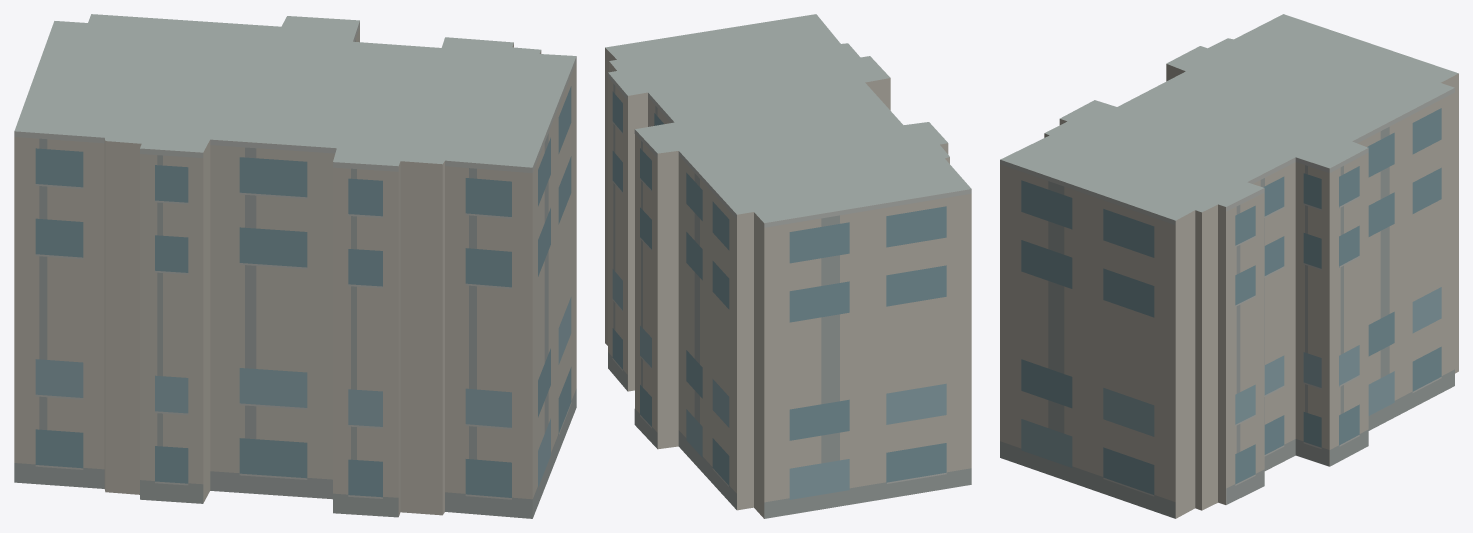
File: survey-upis-32798342.glb
The picture shows the model from 3 angles, left to right: view 1: azimuth 30°, elevation 25°; view 2: azimuth 150°, elevation 25°; view 3: azimuth 270°, elevation 25°; orthographic projection. The views are drawn at different scales.
Parts seen in each view (by area): view 1: survey-upis-32798342.tmp; view 2: survey-upis-32798342.tmp; view 3: survey-upis-32798342.tmp.
Boxes of the visible parts, x1,y1,x2,y2 form: survey-upis-32798342.tmp: [14, 14, 576, 518]; survey-upis-32798342.tmp: [605, 14, 971, 518]; survey-upis-32798342.tmp: [1000, 14, 1458, 518].
Bounding box in the file's own units: 23.05 × 15.5 × 21.62.
